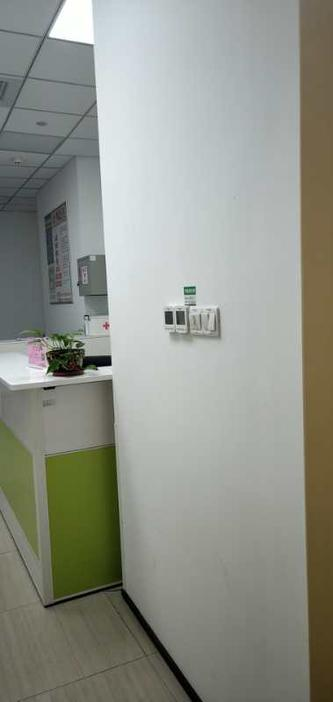switch: (205, 310, 222, 340), (189, 314, 199, 329)
